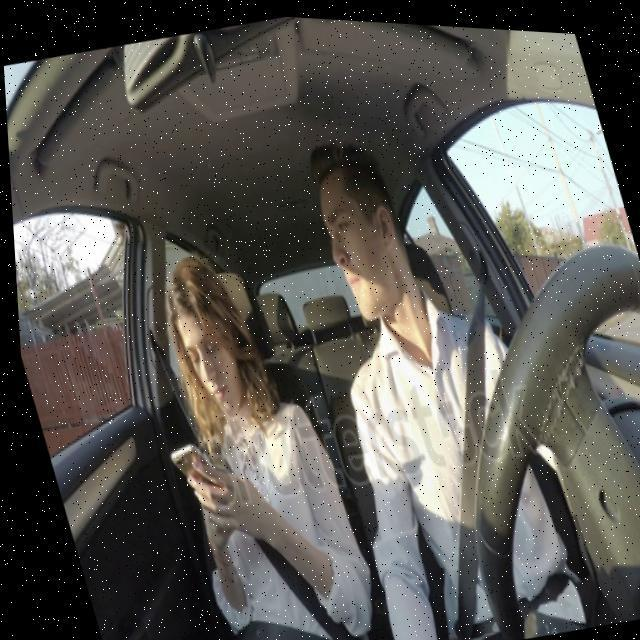PhoneCall: (160, 436, 211, 494)
